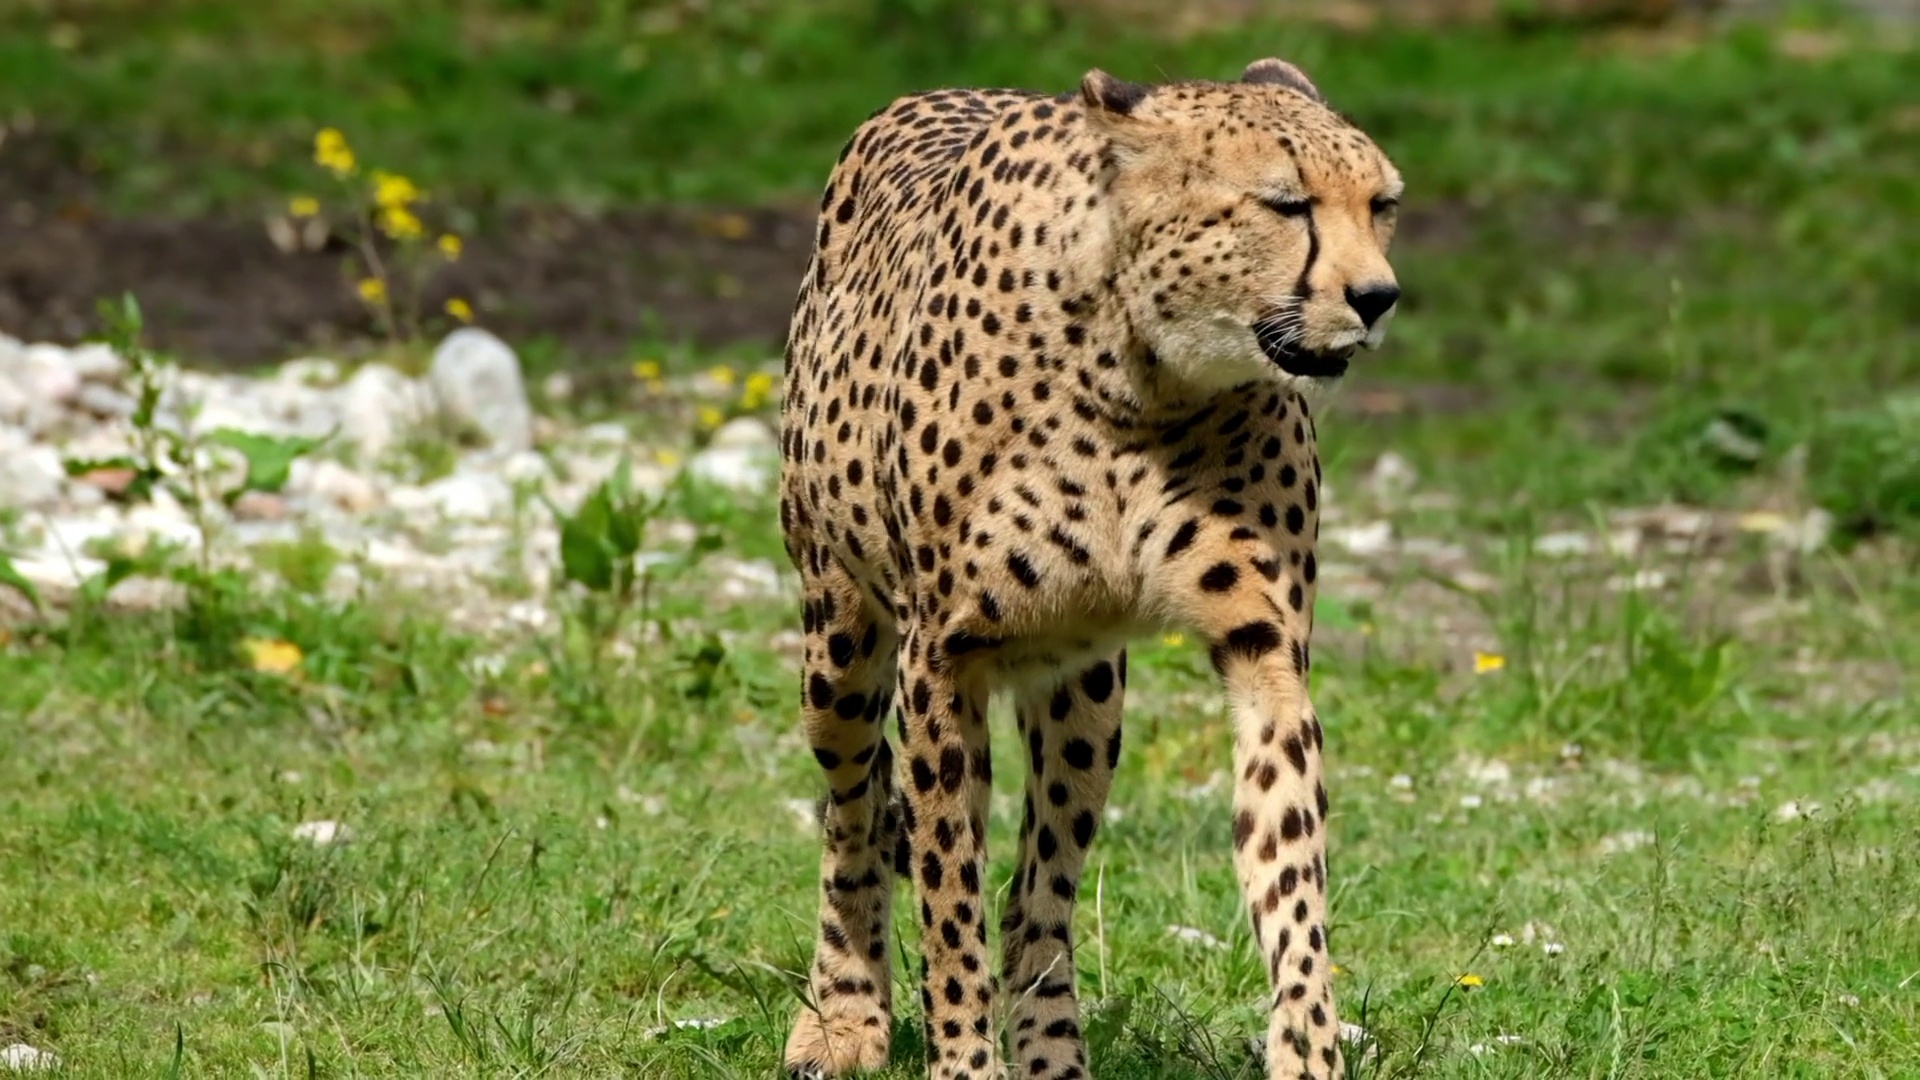Cheetah: (773, 50, 1407, 1080)
